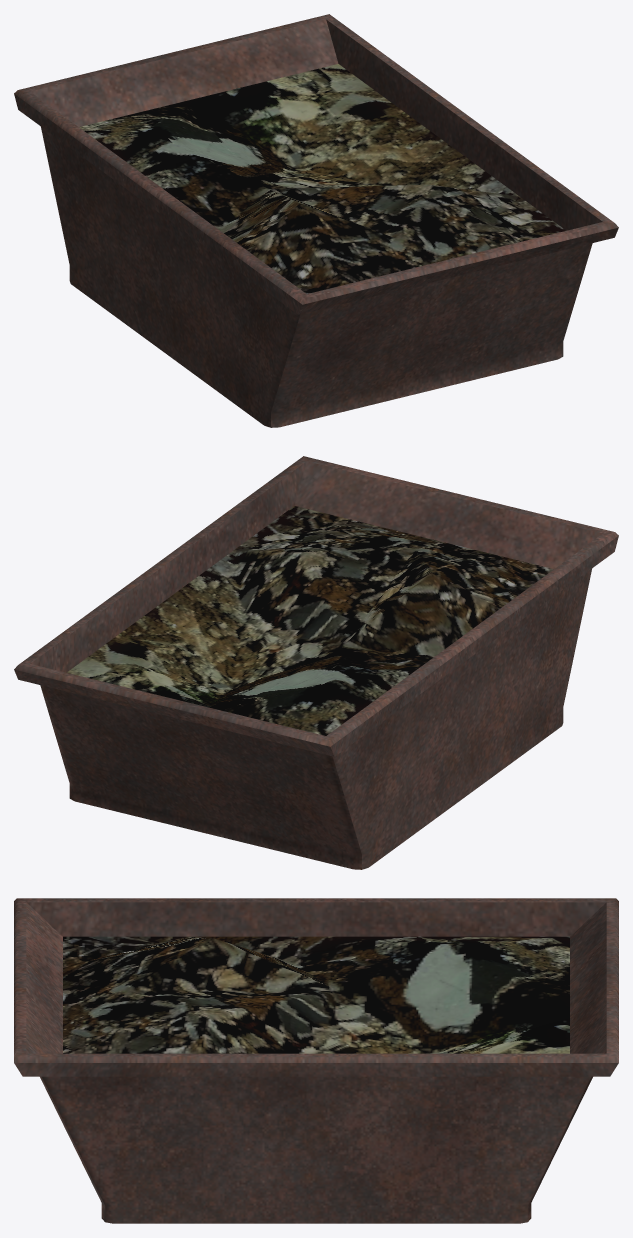
File: bigContainer.glb
3 renders of one model, top to bottom at view 1: azimuth 30°, elevation 25°; view 2: azimuth 150°, elevation 25°; view 3: azimuth 270°, elevation 25°, orthographic. The views are drawn at different scales.
Visible parts, largest first — view 1: SM_BigContainer; view 2: SM_BigContainer; view 3: SM_BigContainer.
Part boxes in pixels (x1,y1,x2,y2): SM_BigContainer: (14,14,618,427); SM_BigContainer: (14,456,618,869); SM_BigContainer: (14,898,618,1223).
Size of the model in its own units: 1.84 by 0.9285 by 2.9.
Materials: 1 (1 with a texture image).
